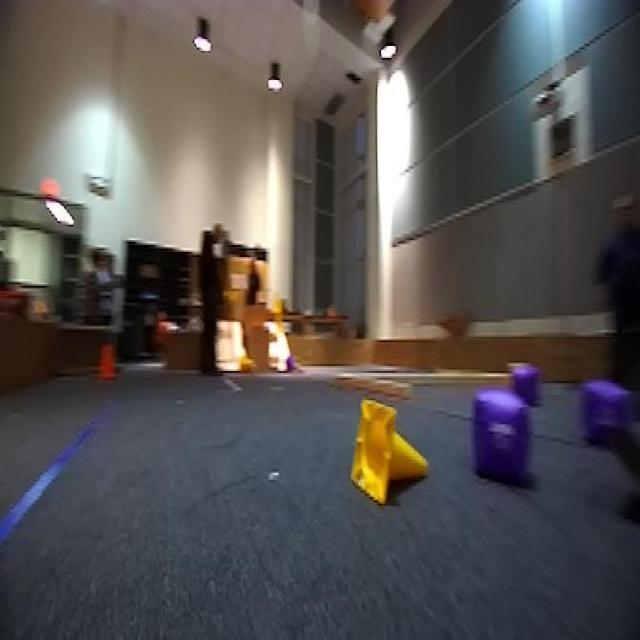frc_cone: (350, 396, 430, 506), (237, 352, 255, 377)
frc_cube: (471, 388, 528, 487), (578, 375, 627, 451), (508, 356, 541, 402), (283, 356, 298, 373)
